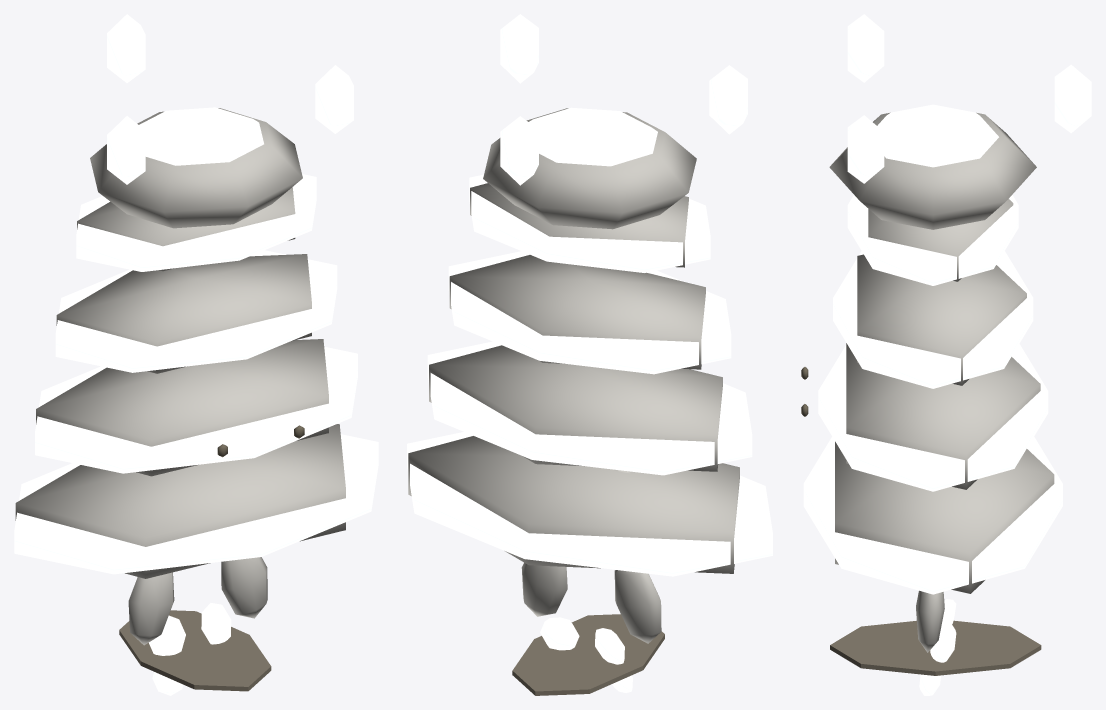
Rendered from life_spring_idle.fbx.
3 renders of one model, left to right at view 1: azimuth 30°, elevation 25°; view 2: azimuth 150°, elevation 25°; view 3: azimuth 270°, elevation 25°, orthographic.
Parts seen in each view (by area): view 1: Body_life_spring, Shadow_life_spring, Leg_L_life_spring, Leg_R_life_spring; view 2: Body_life_spring, Shadow_life_spring, Leg_L_life_spring, Leg_R_life_spring; view 3: Body_life_spring, Shadow_life_spring, Leg_R_life_spring.
Part boxes in pixels (x1,y1,x2,y2): Body_life_spring: (14, 14, 378, 578); Shadow_life_spring: (119, 610, 271, 691); Leg_L_life_spring: (128, 471, 185, 695); Leg_R_life_spring: (201, 557, 267, 644); Body_life_spring: (407, 14, 772, 576); Shadow_life_spring: (512, 614, 664, 695); Leg_L_life_spring: (595, 469, 661, 692); Leg_R_life_spring: (521, 562, 579, 650); Body_life_spring: (801, 14, 1091, 594); Shadow_life_spring: (830, 620, 1041, 675); Leg_R_life_spring: (916, 590, 956, 695).
Bounding box in the file's own units: 102 × 165 × 70.45.
